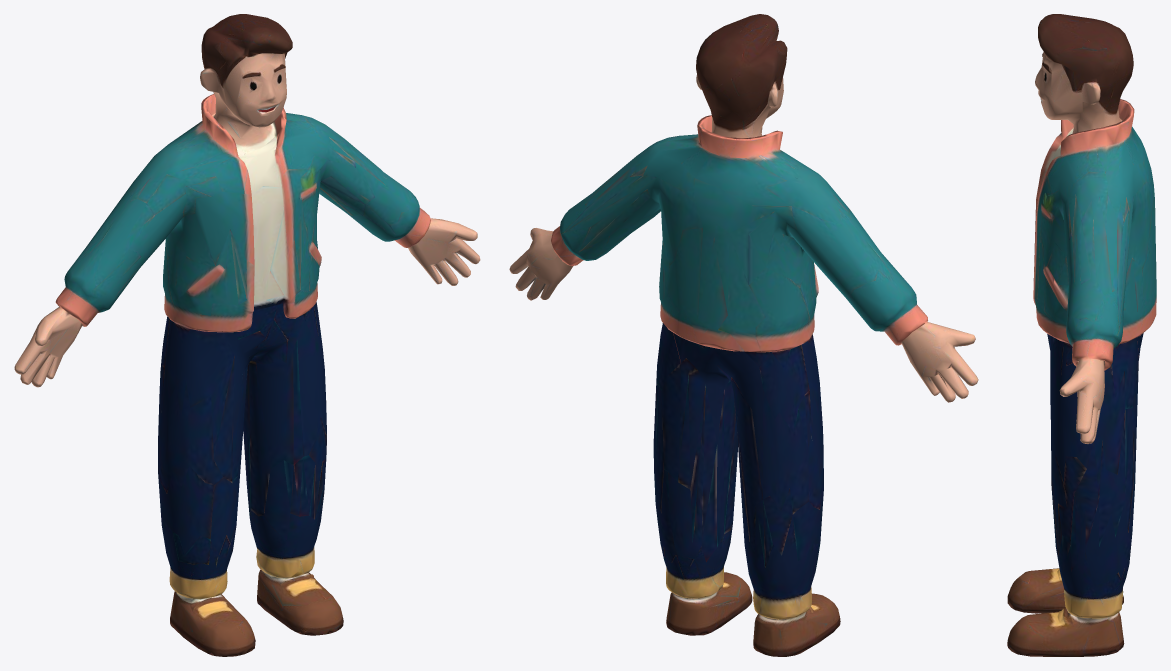
The model's file is adult-man-512.glb.
The picture shows the model from 3 angles, left to right: view 1: azimuth 30°, elevation 25°; view 2: azimuth 150°, elevation 25°; view 3: azimuth 270°, elevation 25°; orthographic projection.
Size of the model in its own units: 1.54 by 1.9 by 0.4252.
Materials: 1 (1 with a texture image).
